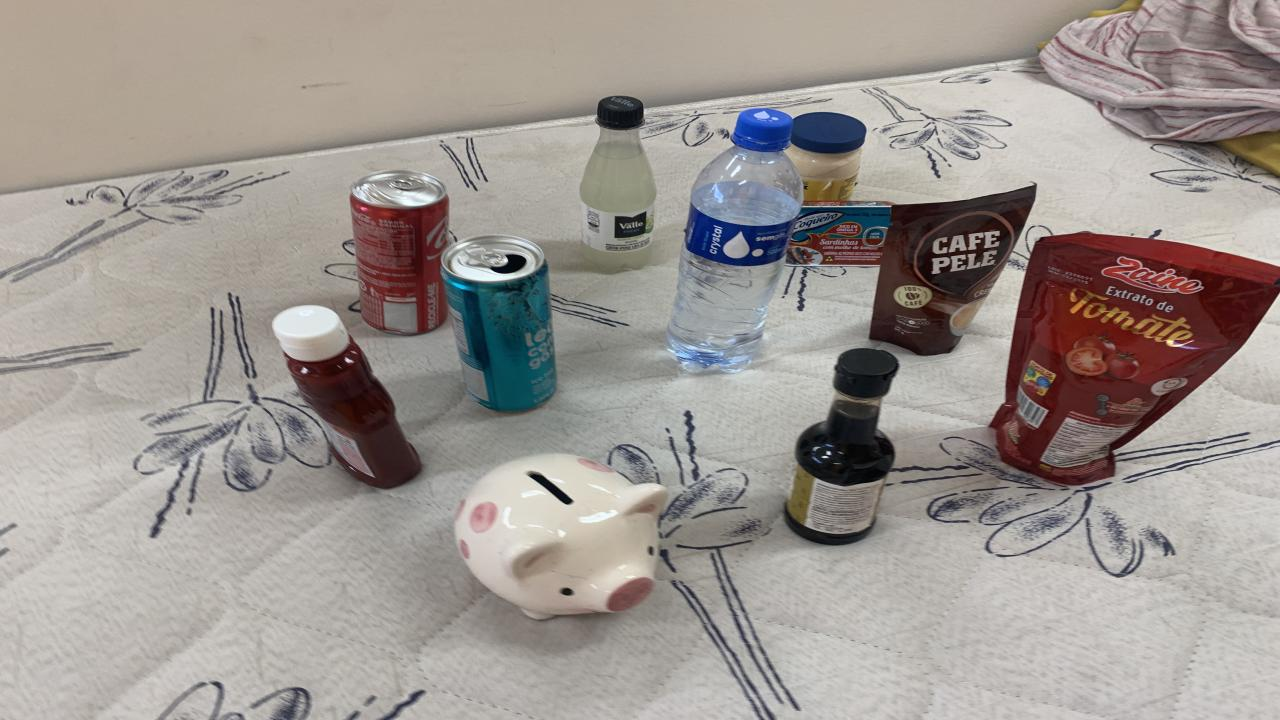Coffee-Pantry_Items: (870, 186, 1035, 354)
Coke-Drinks: (350, 169, 450, 334)
English_Sauce-Pantry_Items: (785, 349, 898, 544), (475, 0, 488, 4)
Ketchup-Pantry_Items: (272, 304, 420, 488)
Mayonnaise-Pantry_Items: (785, 112, 868, 202)
Pig_Safe-Miscellaneous: (455, 454, 668, 619)
Soda-Drinks: (580, 96, 655, 274)
Tea-Drinks: (442, 234, 558, 411)
Tomato_Sauce-Pantry_Items: (990, 232, 1280, 486)
Tuna_Can-Pantry_Items: (785, 201, 892, 266)
Water_Bottle-Drinks: (668, 109, 802, 373)
